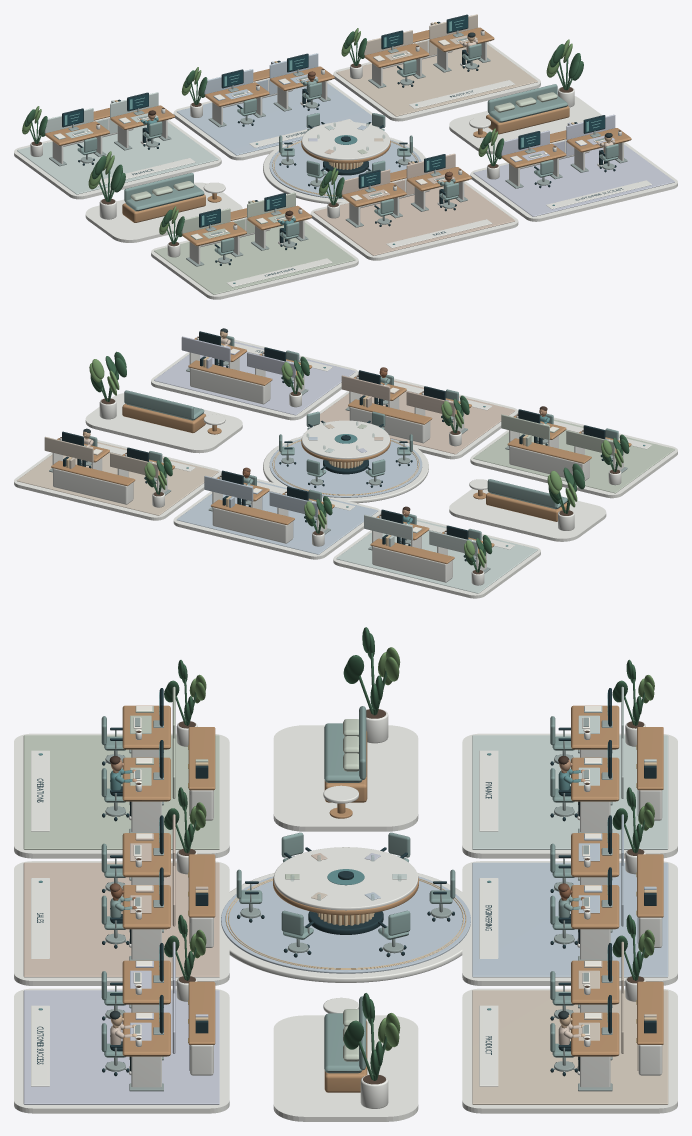
The model's file is office.glb.
3 renders of one model, top to bottom at view 1: azimuth 30°, elevation 25°; view 2: azimuth 150°, elevation 25°; view 3: azimuth 270°, elevation 25°, orthographic. The views are drawn at different scales.
Parts seen in each view (by area): view 1: architecture_porcelain_chalk, architecture_furniture_oak, architecture_textile_engineering, architecture_textile_operations, architecture_textile_sales, architecture_textile_customer_success, architecture_textile_product, architecture_furniture_sand, architecture_textile_finance, architecture_plant_deep_sage, architecture_brushed_aluminium, architecture_display_surface (+5 smaller); view 2: architecture_porcelain_chalk, architecture_textile_engineering, architecture_furniture_oak, architecture_textile_product, architecture_textile_customer_success, architecture_textile_finance, architecture_textile_operations, architecture_furniture_sand, architecture_textile_sales, architecture_display_ink, architecture_plant_deep_sage, architecture_plant_sage (+3 smaller); view 3: architecture_porcelain_chalk, architecture_furniture_oak, architecture_textile_engineering, architecture_textile_product, architecture_textile_customer_success, architecture_textile_operations, architecture_textile_sales, architecture_textile_finance, architecture_furniture_sand, architecture_plant_deep_sage, architecture_display_ink, architecture_brushed_aluminium (+4 smaller).
Part boxes in pixels (bbox=[...]): architecture_porcelain_chalk: bbox=[14, 31, 677, 299]; architecture_furniture_oak: bbox=[45, 27, 631, 245]; architecture_textile_engineering: bbox=[176, 53, 421, 198]; architecture_textile_operations: bbox=[130, 92, 557, 294]; architecture_textile_sales: bbox=[313, 149, 515, 255]; architecture_textile_customer_success: bbox=[308, 114, 674, 216]; architecture_textile_product: bbox=[336, 14, 537, 141]; architecture_furniture_sand: bbox=[77, 43, 618, 255]; architecture_textile_finance: bbox=[17, 92, 334, 194]; architecture_plant_deep_sage: bbox=[24, 31, 583, 244]; architecture_brushed_aluminium: bbox=[49, 30, 627, 266]; architecture_display_surface: bbox=[63, 16, 604, 226]; architecture_porcelain_chalk: bbox=[14, 337, 677, 598]; architecture_textile_engineering: bbox=[176, 437, 422, 554]; architecture_furniture_oak: bbox=[51, 337, 631, 564]; architecture_textile_product: bbox=[17, 424, 334, 515]; architecture_textile_customer_success: bbox=[154, 336, 367, 452]; architecture_textile_finance: bbox=[324, 448, 537, 593]; architecture_textile_operations: bbox=[194, 409, 674, 493]; architecture_furniture_sand: bbox=[84, 335, 618, 540]; architecture_textile_sales: bbox=[320, 375, 515, 454]; architecture_display_ink: bbox=[62, 331, 612, 561]; architecture_plant_deep_sage: bbox=[90, 351, 629, 572]; architecture_plant_sage: bbox=[89, 359, 623, 567]; architecture_porcelain_chalk: bbox=[14, 709, 677, 1121]; architecture_furniture_oak: bbox=[122, 705, 663, 1092]; architecture_textile_engineering: bbox=[221, 814, 668, 977]; architecture_textile_product: bbox=[311, 892, 668, 1104]; architecture_textile_customer_success: bbox=[23, 853, 380, 1104]; architecture_textile_operations: bbox=[23, 686, 358, 1061]; architecture_textile_sales: bbox=[23, 814, 327, 977]; architecture_textile_finance: bbox=[392, 686, 668, 879]; architecture_furniture_sand: bbox=[101, 706, 574, 1073]; architecture_plant_deep_sage: bbox=[164, 627, 645, 1080]; architecture_display_ink: bbox=[102, 688, 656, 1076]; architecture_brushed_aluminium: bbox=[104, 717, 612, 1091].
Bounding box in the file's own units: 23.47 × 3.06 × 16.73.
